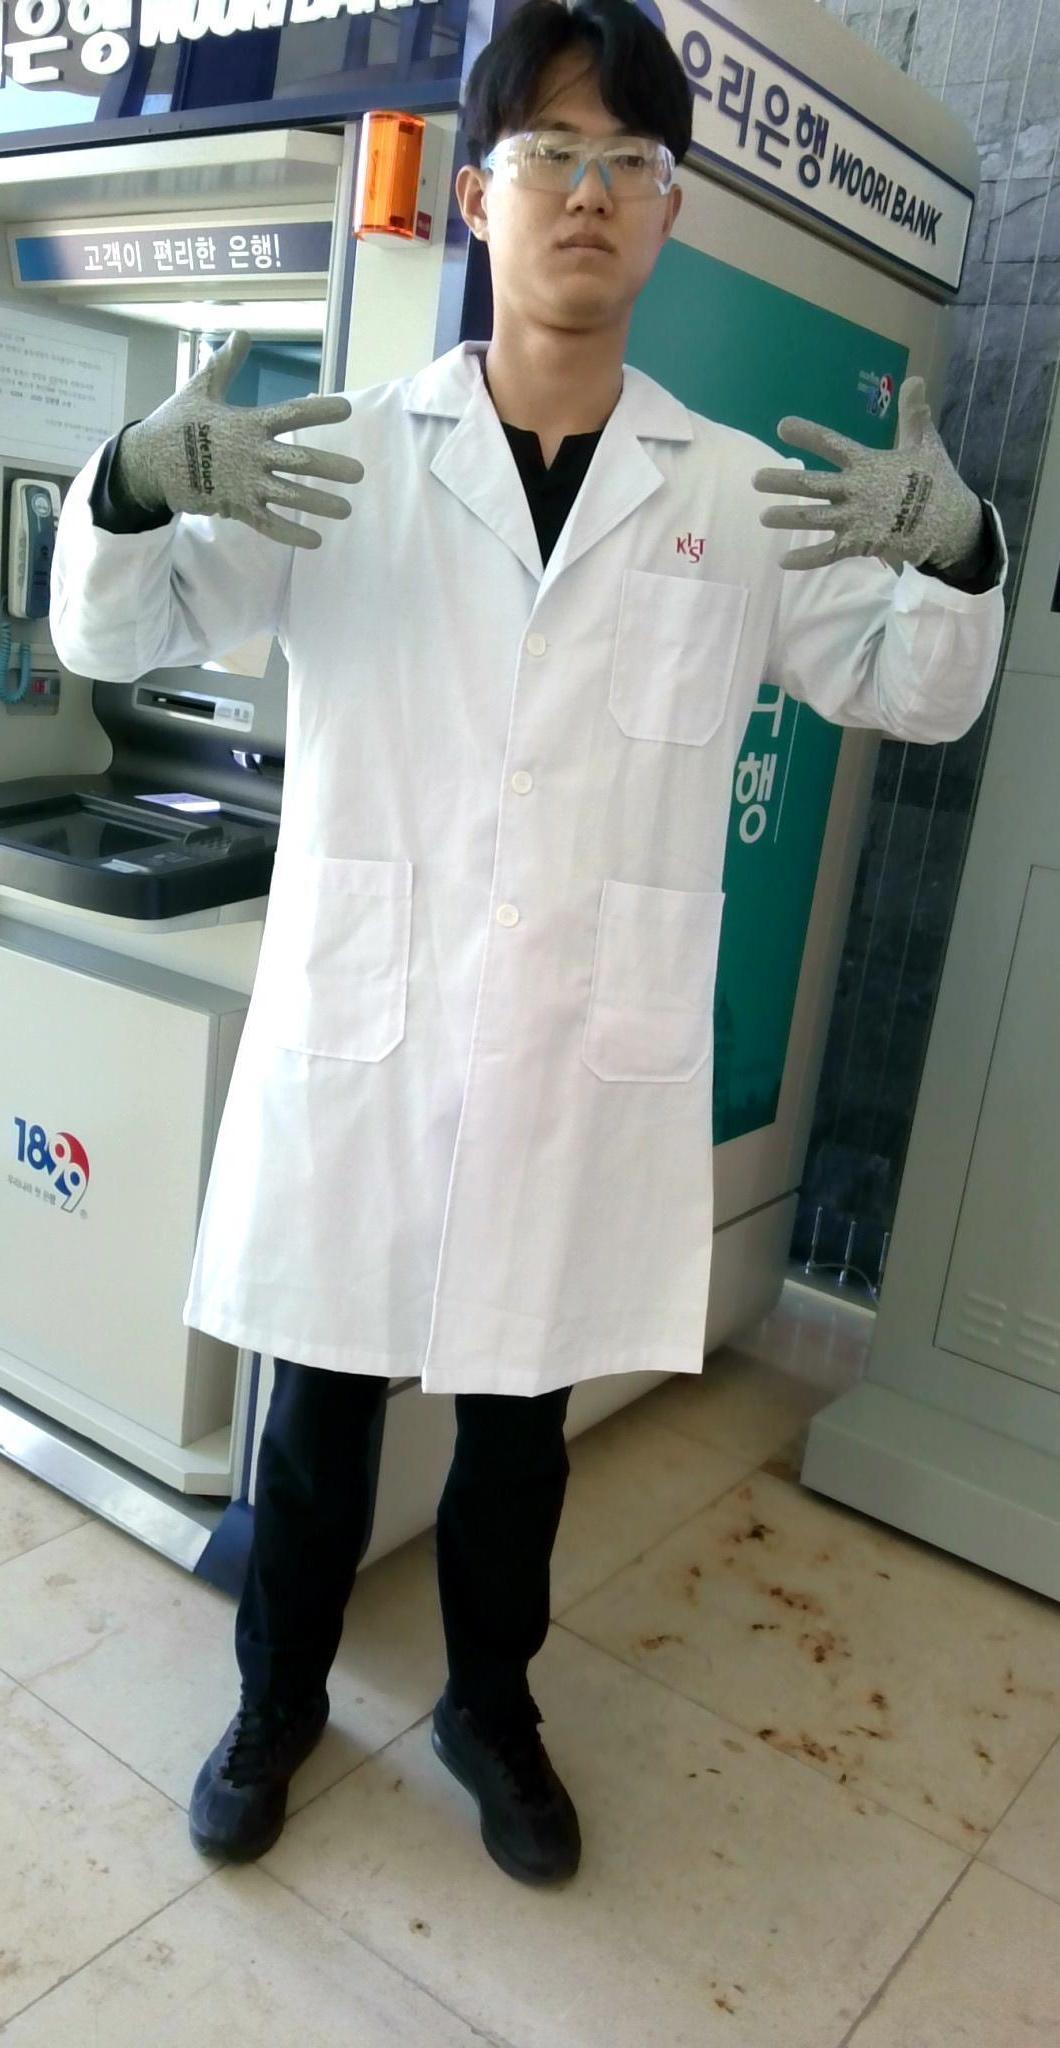lab_coat: (315, 479, 741, 1361)
